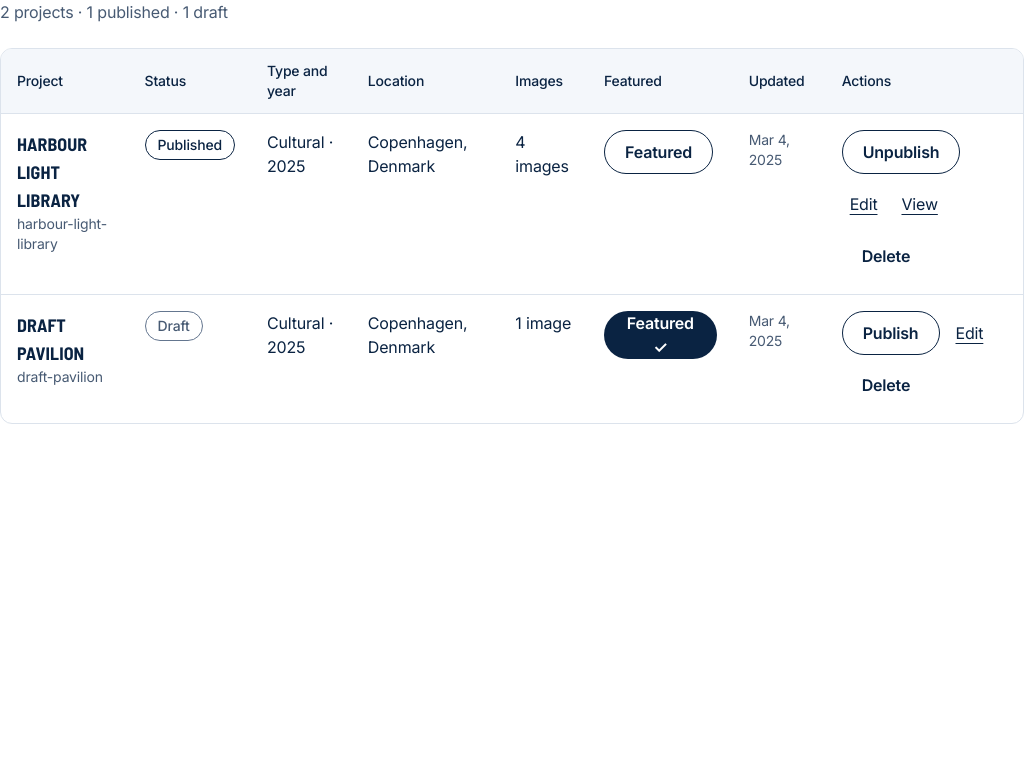
Test: deleting › cancels without sending anything
The image size is (1024, 768).
Click the button with aria-label "Delete Harbour Light Library" at (886, 256), box [842,234,930,278]
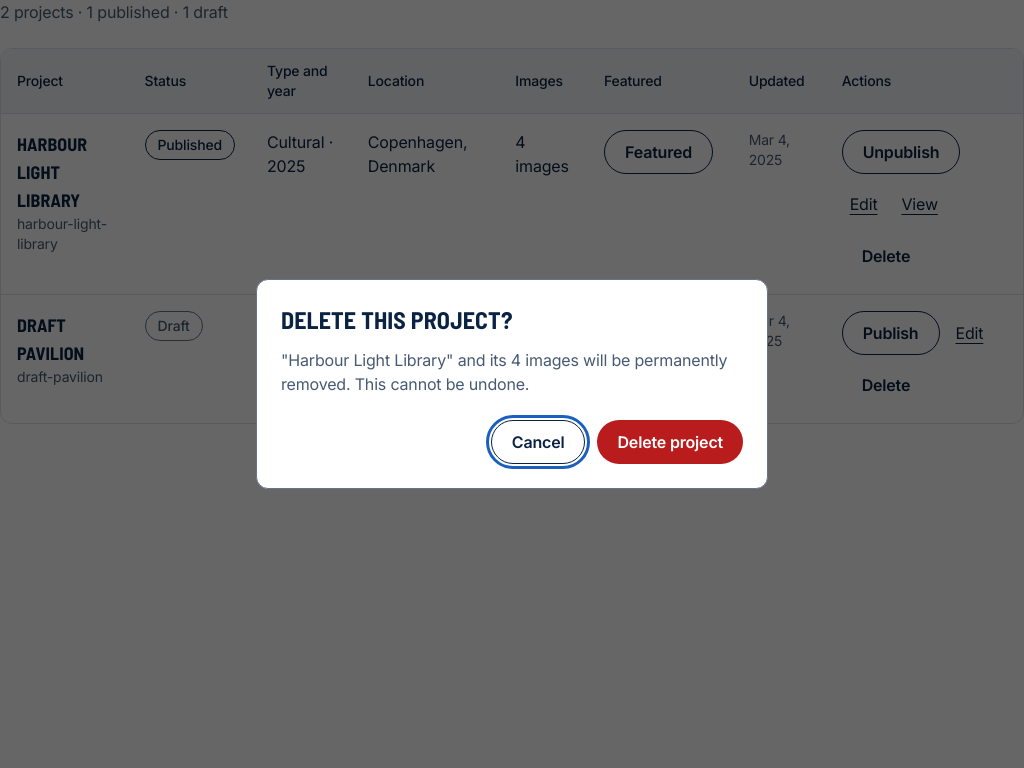
Click the button "Cancel" at (538, 442), box [491,420,586,464]
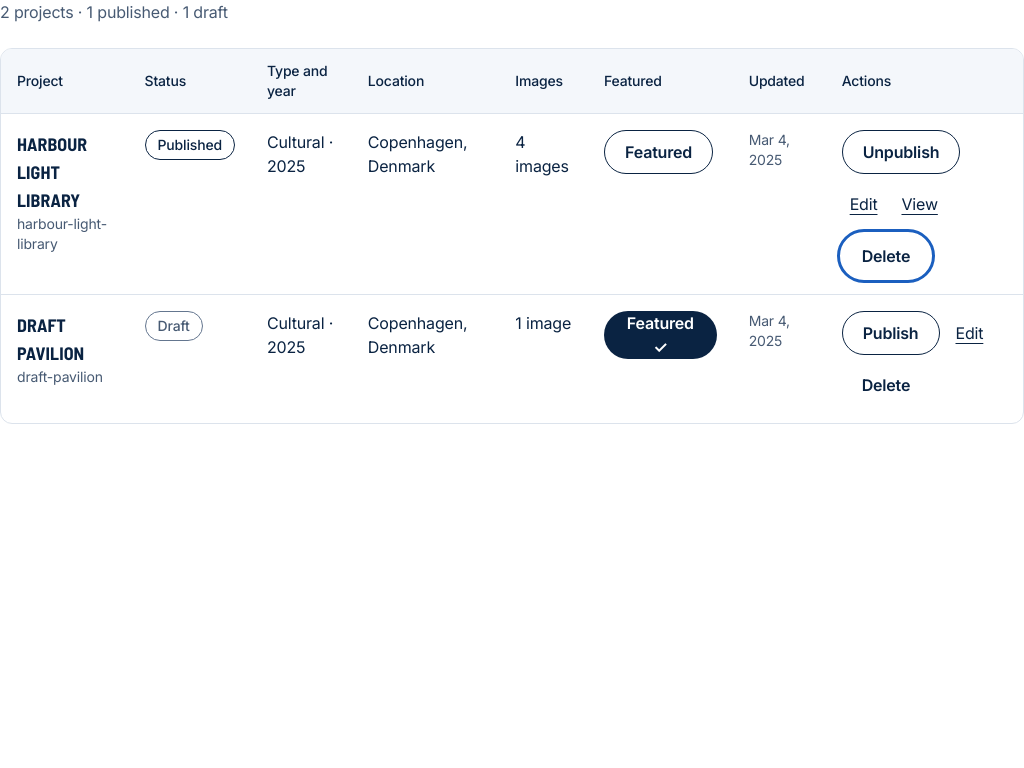
Now the dialog is gone
